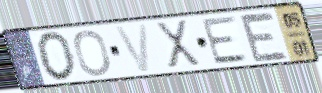E: (236, 11, 291, 64), (200, 14, 252, 67)
O: (36, 30, 78, 83), (72, 28, 113, 78)
V: (112, 22, 153, 75)
X: (153, 18, 203, 69)
